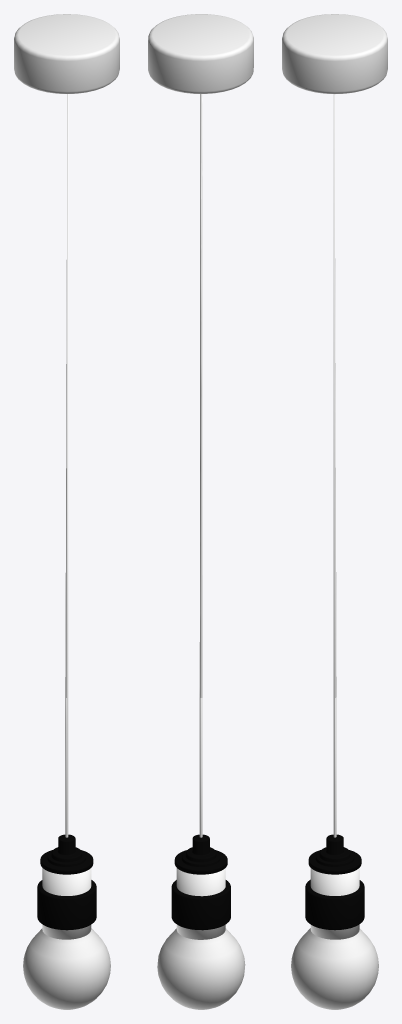
The model's file is light.fbx.
3 views of the same model, side by side, from view 1: azimuth 90°, elevation 25°; view 2: azimuth 150°, elevation 25°; view 3: azimuth 270°, elevation 25° (orthographic).
Parts seen in each view (by area): view 1: Lampatron ZIEL01; view 2: Lampatron ZIEL01; view 3: Lampatron ZIEL01.
Boxes of the visible parts, x1,y1,x2,y2 form: Lampatron ZIEL01: (14, 14, 119, 1009); Lampatron ZIEL01: (148, 14, 253, 1009); Lampatron ZIEL01: (282, 14, 387, 1009).
Size of the model in its own units: 10 by 101 by 10.
